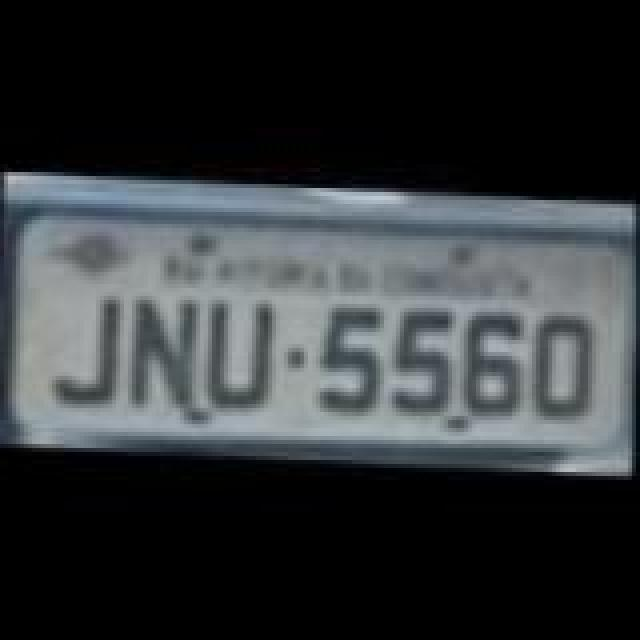5: (314, 300, 386, 420), (388, 304, 456, 420)
6: (460, 310, 528, 422)
J: (54, 294, 126, 406)
N: (124, 290, 208, 414)
O: (530, 314, 602, 426)
U: (200, 298, 284, 414)
